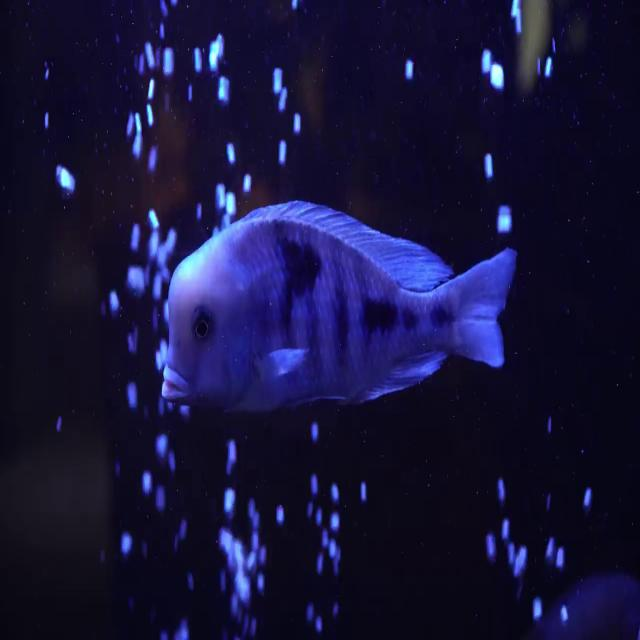fish: (161, 191, 520, 425)
